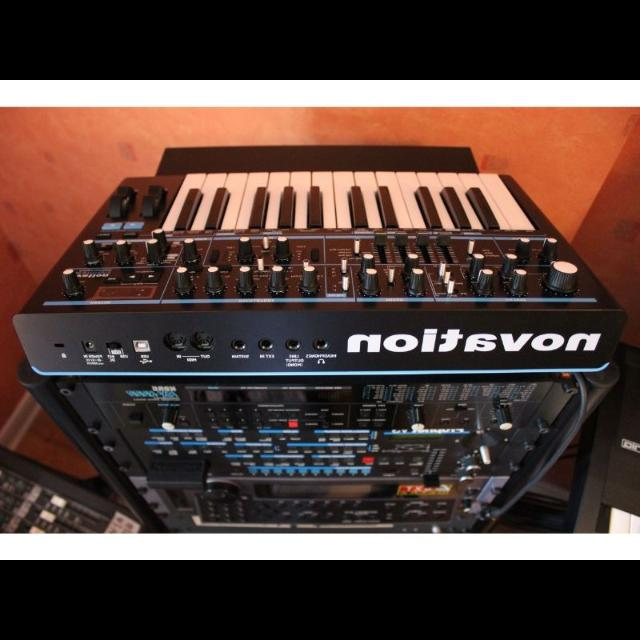Electronic-Keyboard: (24, 172, 612, 376)
